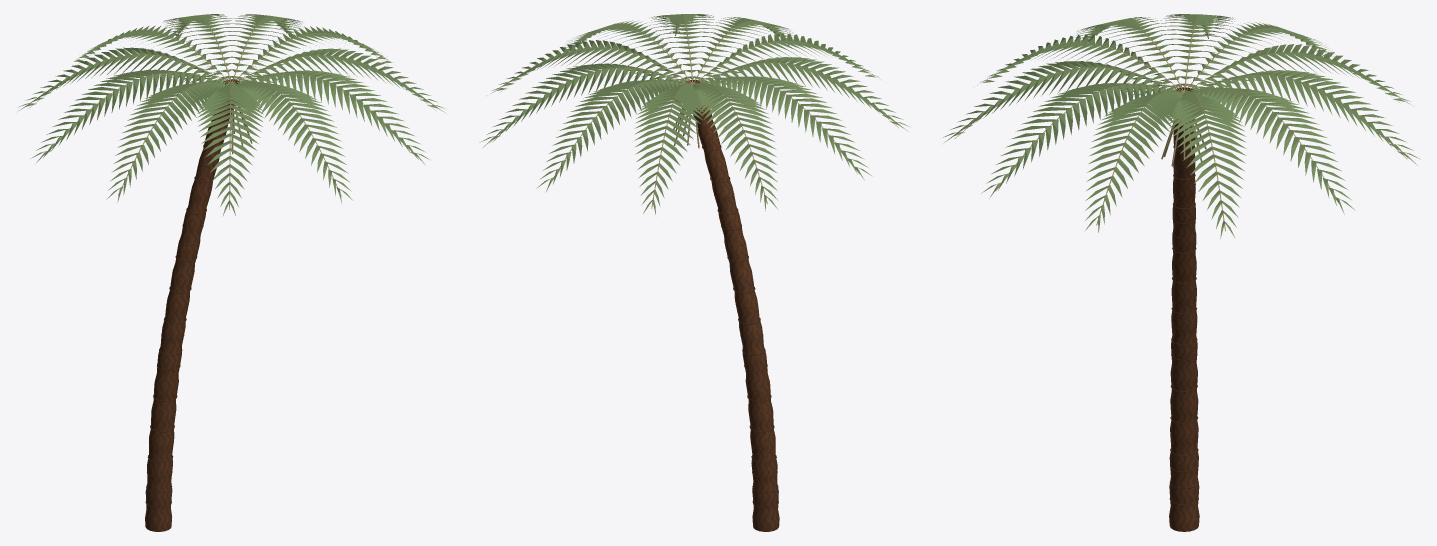
File: pacific-palm.glb
3 renders of one model, left to right at view 1: azimuth 30°, elevation 25°; view 2: azimuth 150°, elevation 25°; view 3: azimuth 270°, elevation 25°, orthographic. The views are drawn at different scales.
Visible parts, largest first — view 1: Palm waxy leaflets, Palm fibrous bark, Palm dry crown fibers; view 2: Palm waxy leaflets, Palm fibrous bark, Palm dry crown fibers; view 3: Palm waxy leaflets, Palm fibrous bark, Palm dry crown fibers.
Boxes of the visible parts, <box> form: Palm waxy leaflets: <box>18,14,445,216</box>; Palm fibrous bark: <box>145,79,239,531</box>; Palm dry crown fibers: <box>29,20,435,209</box>; Palm waxy leaflets: <box>479,14,909,214</box>; Palm fibrous bark: <box>685,79,779,531</box>; Palm dry crown fibers: <box>492,21,898,208</box>; Palm waxy leaflets: <box>943,14,1420,238</box>; Palm fibrous bark: <box>1169,87,1199,531</box>; Palm dry crown fibers: <box>955,19,1407,231</box>.
Size of the model in its own units: 9.27 by 10.54 by 9.22.
3 materials, 1 textured.
